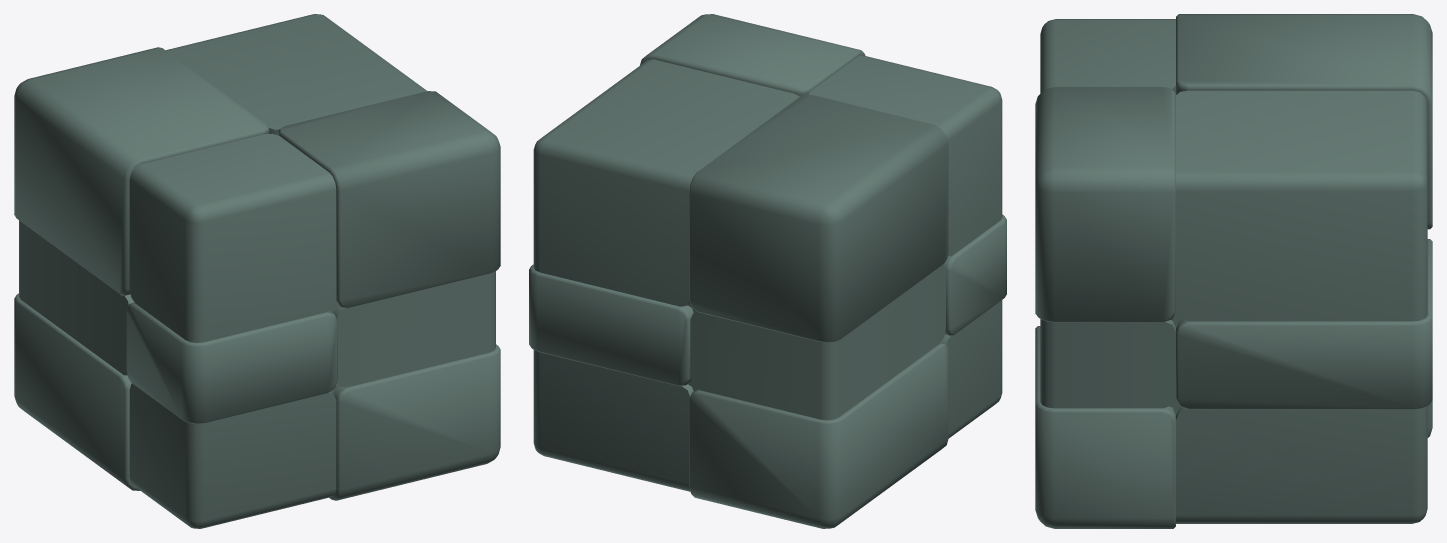
Rendered from CubeBase_01.fbx.
3 views of the same model, side by side, from view 1: azimuth 30°, elevation 25°; view 2: azimuth 150°, elevation 25°; view 3: azimuth 270°, elevation 25° (orthographic). The views are drawn at different scales.
Parts seen in each view (by area): view 1: Round Cube.001; view 2: Round Cube.001; view 3: Round Cube.001.
Part boxes in pixels (x1,y1,x2,y2): Round Cube.001: (14,14,500,528); Round Cube.001: (529,14,1006,528); Round Cube.001: (1035,14,1432,528).
Size of the model in its own units: 205 by 205 by 205.
